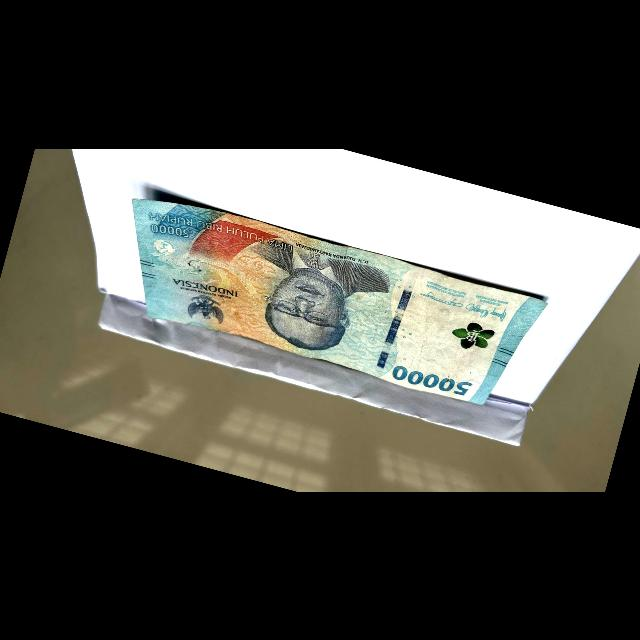Palsu-50k: (96, 184, 552, 420)
Tinta-Palsu-50k: (445, 315, 498, 356)
